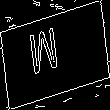M_S: (38, 26, 72, 84)
